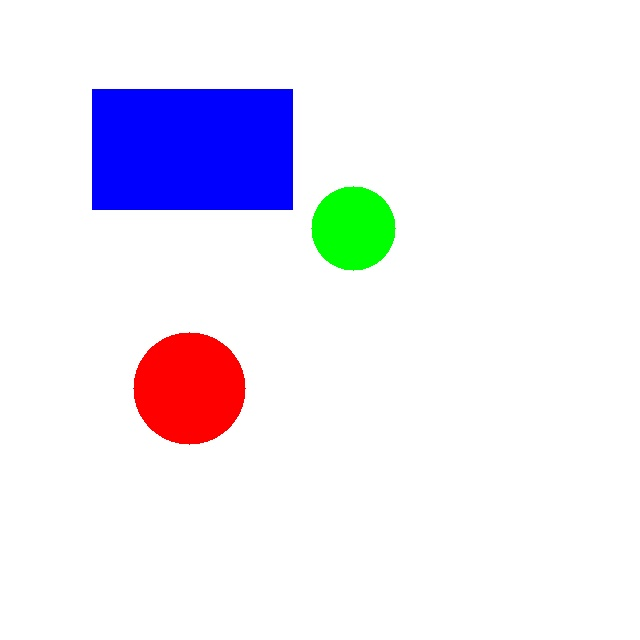cartao: (92, 89, 292, 209)
rosca_externa: (311, 186, 395, 270)
rosca_interna: (133, 332, 245, 444)
